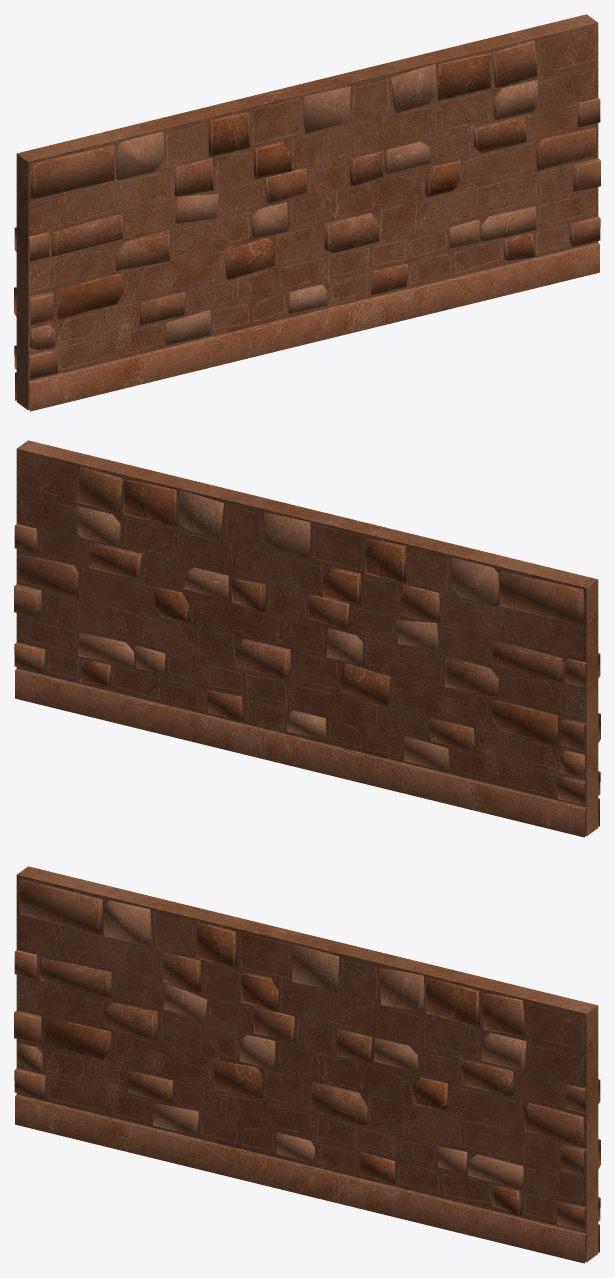
The model's file is wall_new_01.glb.
3 renders of one model, top to bottom at view 1: azimuth 30°, elevation 25°; view 2: azimuth 150°, elevation 25°; view 3: azimuth 330°, elevation 25°, orthographic.
Parts seen in each view (by area): view 1: wall_new_01; view 2: wall_new_01; view 3: wall_new_01.
Boxes of the visible parts, x1,y1,x2,y2 form: wall_new_01: (14,14,600,411); wall_new_01: (14,440,600,837); wall_new_01: (14,866,600,1263).
Size of the model in its own units: 6 by 2.5 by 0.3326.
1 material, 1 textured.
